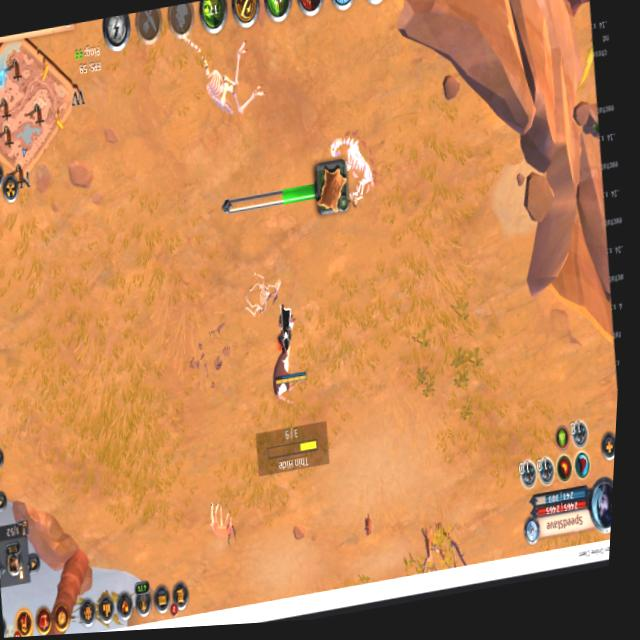mob: (267, 343, 310, 407)
ore: (204, 499, 242, 551)
red: (267, 302, 310, 390)
